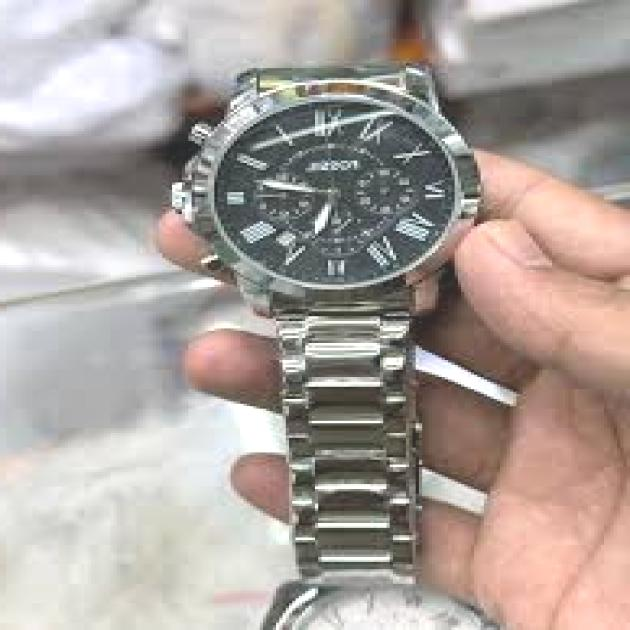there is a person: (108, 57, 504, 603)
